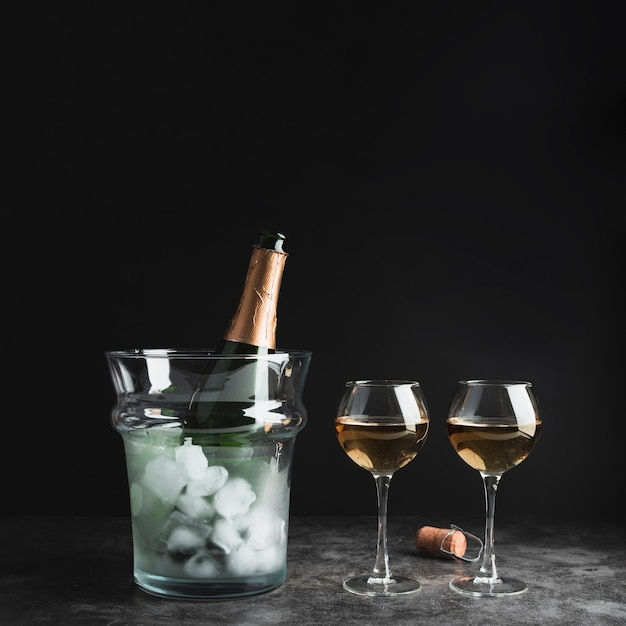alcohol: (156, 228, 294, 574), (332, 377, 432, 599), (442, 378, 540, 599)
